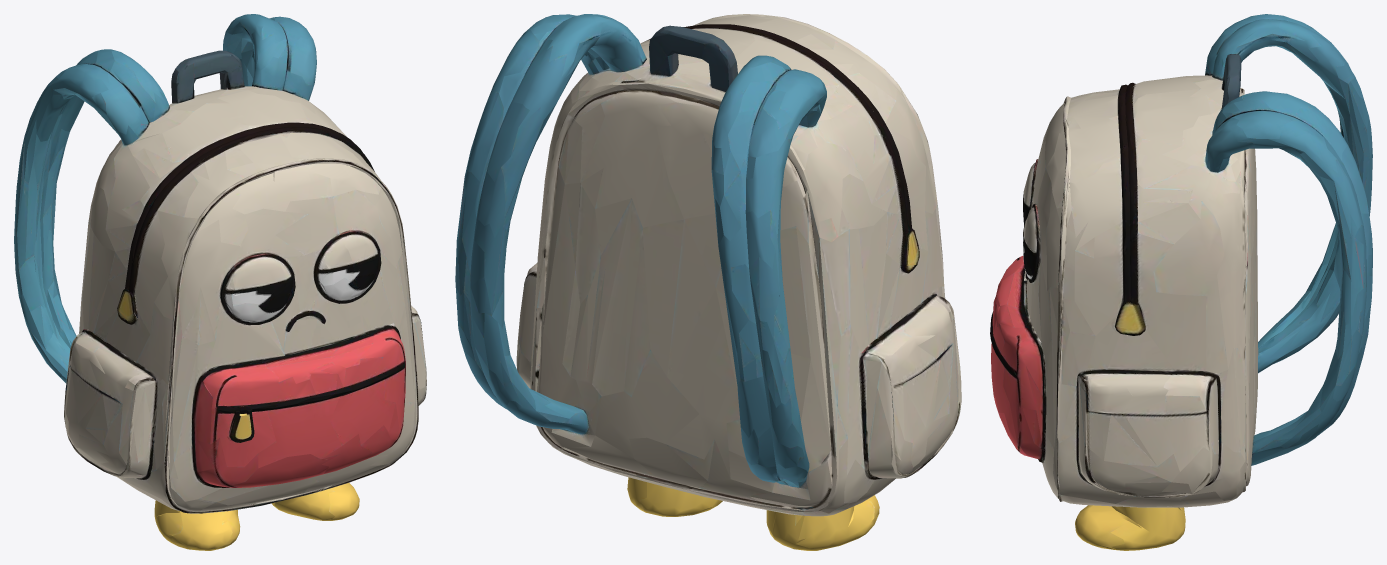
File: creep_tank.glb
3 views of the same model, side by side, from view 1: azimuth 30°, elevation 25°; view 2: azimuth 150°, elevation 25°; view 3: azimuth 270°, elevation 25° (orthographic). The views are drawn at different scales.
Bounding box in the file's own units: 1.46 × 1.9 × 1.46.
Materials: 1 (1 with a texture image).
